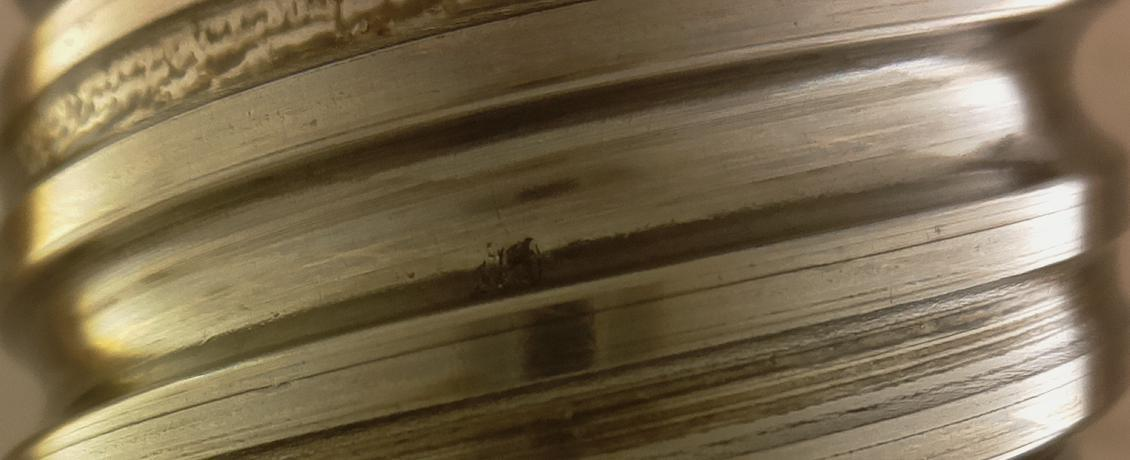pitting: (477, 237, 542, 297)
